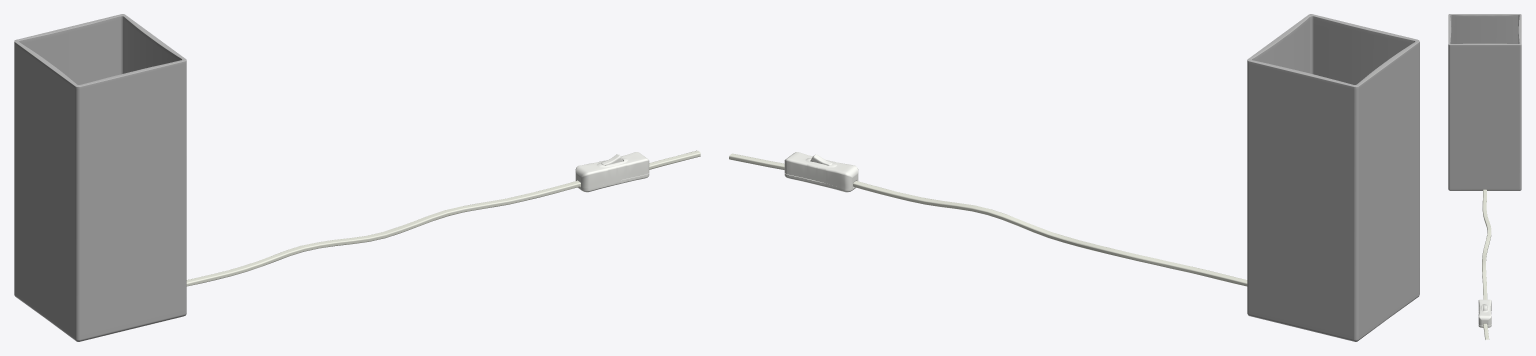
File: groenoe_table_lamp_frosted_glass_white.glb
3 views of the same model, side by side, from view 1: azimuth 30°, elevation 25°; view 2: azimuth 150°, elevation 25°; view 3: azimuth 270°, elevation 25° (orthographic). The views are drawn at different scales.
Visible parts, largest first — view 1: 10373221-GRÃƒâ€“NÃƒâ€“001; view 2: 10373221-GRÃƒâ€“NÃƒâ€“001; view 3: 10373221-GRÃƒâ€“NÃƒâ€“001.
Part boxes in pixels (x1,y1,x2,y2): 10373221-GRÃƒâ€“NÃƒâ€“001: (14, 14, 700, 341); 10373221-GRÃƒâ€“NÃƒâ€“001: (729, 14, 1419, 341); 10373221-GRÃƒâ€“NÃƒâ€“001: (1448, 14, 1521, 339).
Size of the model in its own units: 0.5896 by 0.2201 by 0.1.
1 material, 1 textured.
